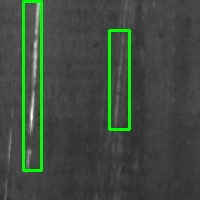scratches: (23, 1, 41, 170), (109, 30, 129, 129)
